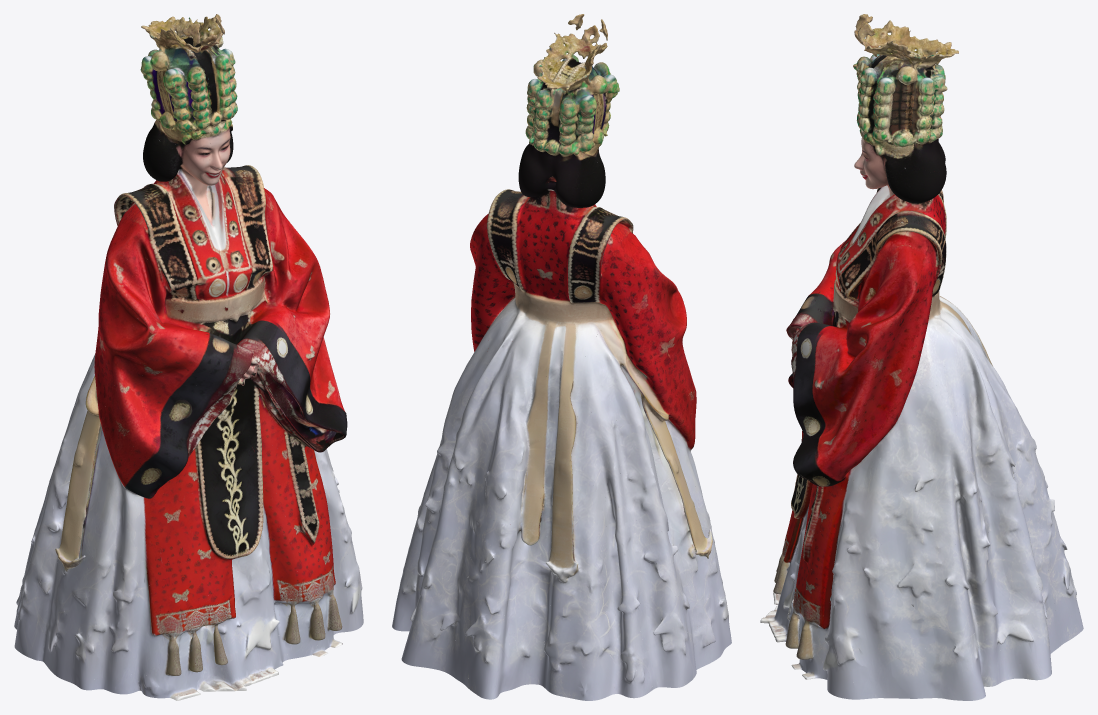
Rendered from queen_seondeok_meshy_v3.glb.
3 views of the same model, side by side, from view 1: azimuth 30°, elevation 25°; view 2: azimuth 150°, elevation 25°; view 3: azimuth 270°, elevation 25° (orthographic). The views are drawn at different scales.
Visible parts, largest first — view 1: Mesh_0; view 2: Mesh_0; view 3: Mesh_0.
Boxes of the visible parts, x1=… form: Mesh_0: x1=14, y1=14, x2=363, y2=700; Mesh_0: x1=392, y1=14, x2=731, y2=700; Mesh_0: x1=760, y1=14, x2=1083, y2=700.
Bounding box in the file's own units: 0.9586 × 1.95 × 0.9335.
1 material, 1 textured.
